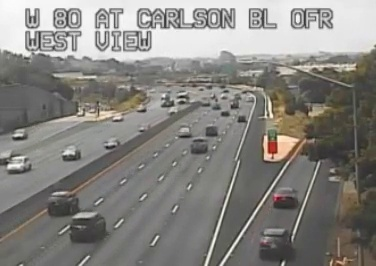car: (69, 212, 105, 240), (260, 228, 291, 260), (48, 191, 78, 215), (273, 188, 297, 208), (191, 138, 207, 153)
